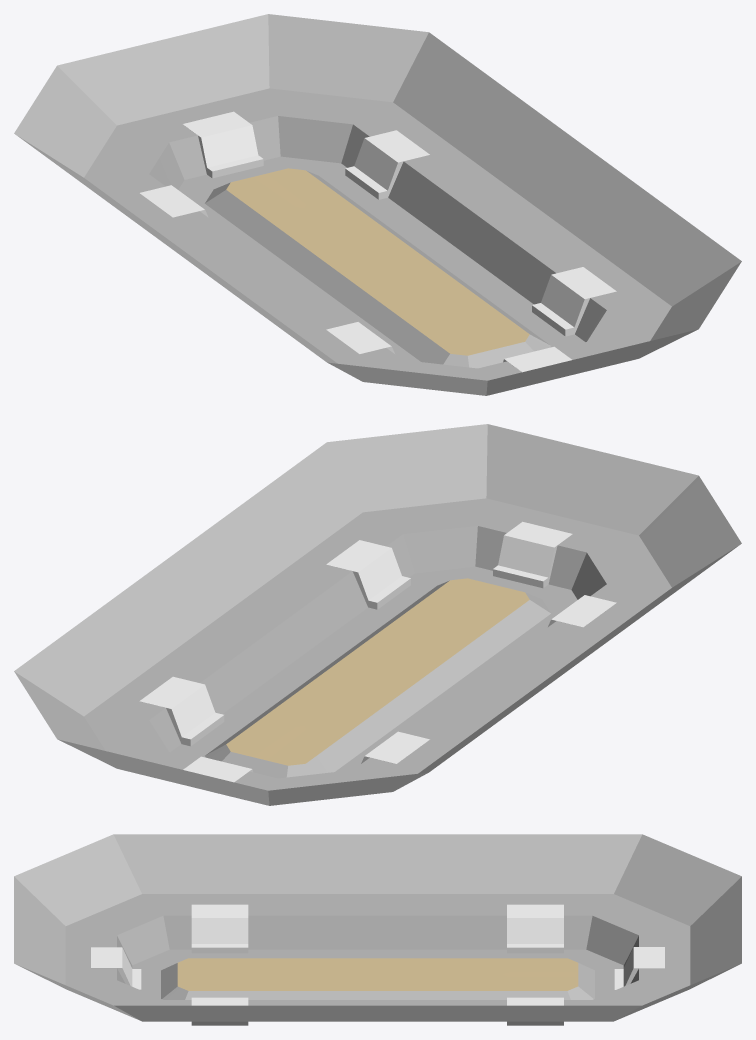
The model's file is deco_ceilingLigh_long.FBX.
3 renders of one model, top to bottom at view 1: azimuth 30°, elevation 25°; view 2: azimuth 150°, elevation 25°; view 3: azimuth 270°, elevation 25°, orthographic. The views are drawn at different scales.
Parts seen in each view (by area): view 1: deco_ceilingLigh_long; view 2: deco_ceilingLigh_long; view 3: deco_ceilingLigh_long.
Part boxes in pixels (x1,y1,x2,y2): deco_ceilingLigh_long: (14,14,741,395); deco_ceilingLigh_long: (14,424,741,805); deco_ceilingLigh_long: (14,834,741,1025).
Bounding box in the file's own units: 0.6447 × 0.1206 × 1.16.
